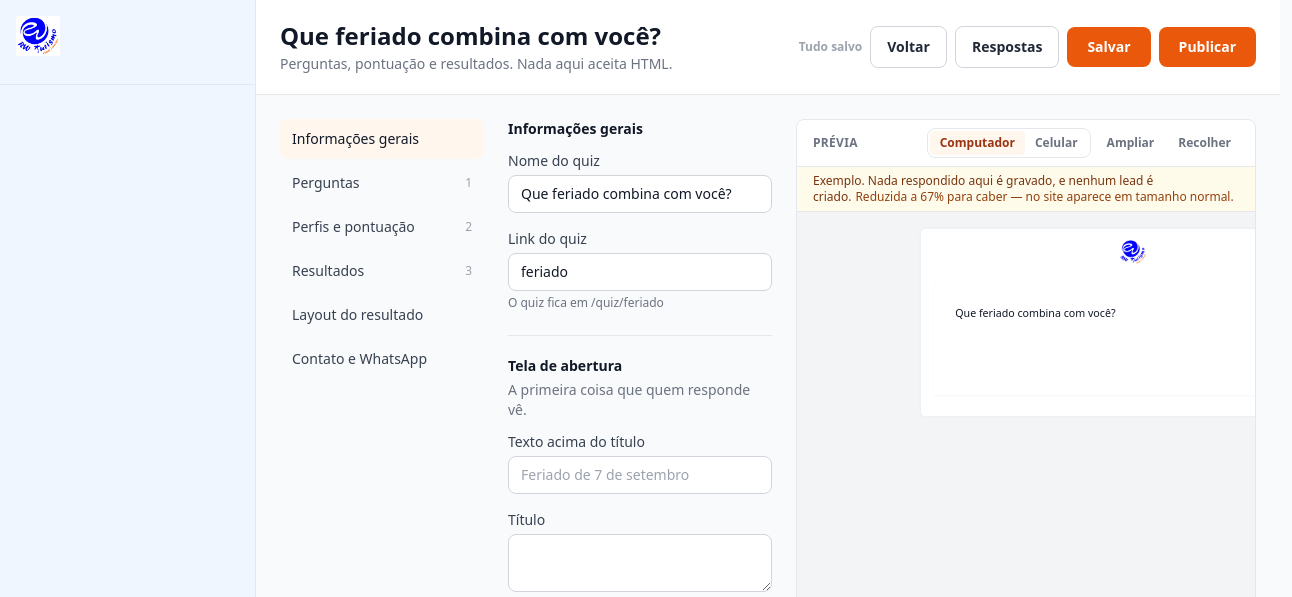
it: estados de salvamento › falha ao salvar mostra "Erro ao salvar" e a mensagem, e nunca "Salvo"
Expected: the button "Informações gerais" is shown, [280, 119, 484, 159]
Replace the text in the field labelled "Nome do quiz" with "outro" at (640, 194), box [508, 175, 772, 213]
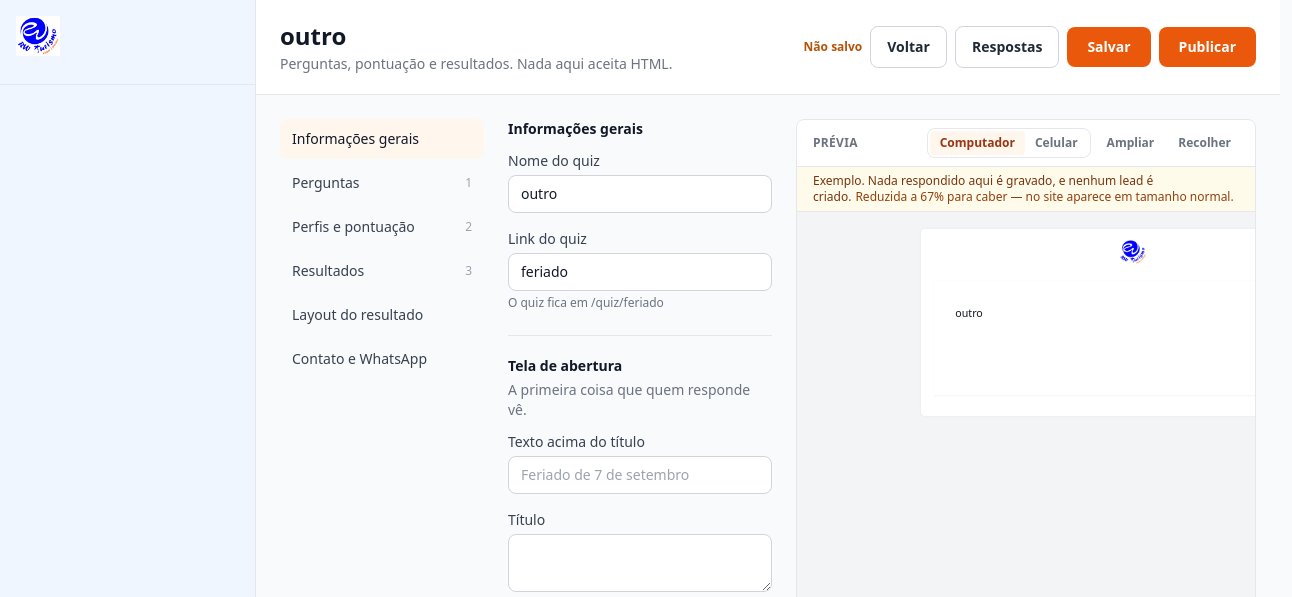
Click the button "Salvar".
click(1109, 47)  # box [1067, 27, 1151, 67]
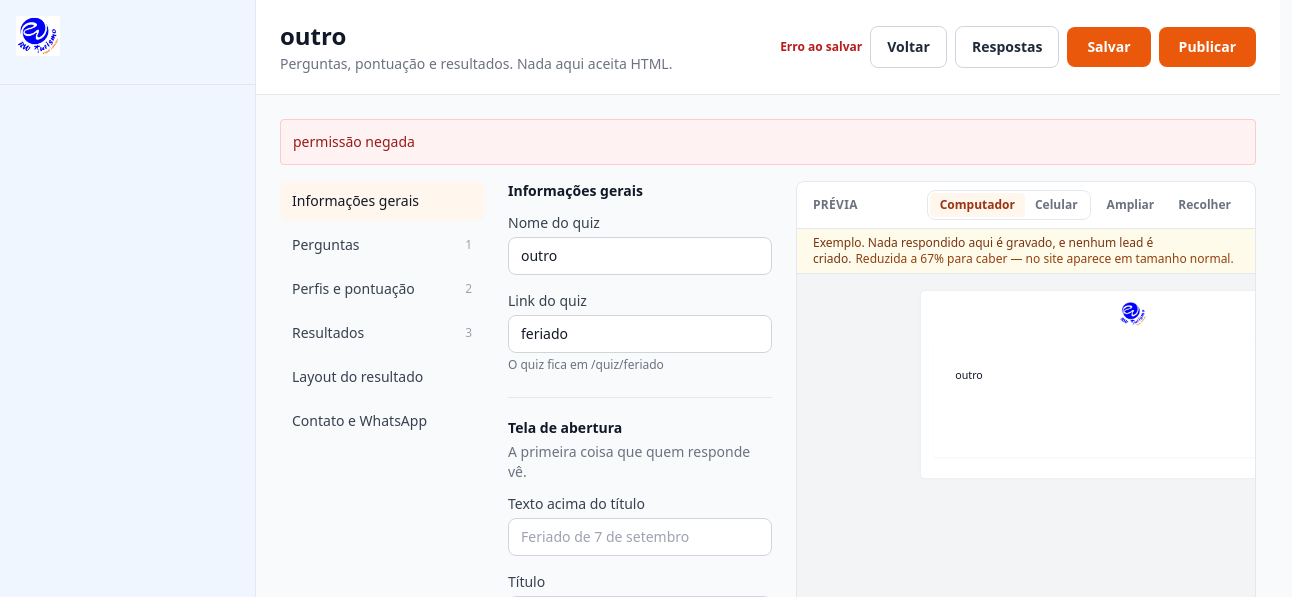
Now the text "Erro ao salvar" is shown, box [780, 39, 862, 55]
Now the message reads "permissão negada", box [293, 132, 415, 151]
Now the text "salvo" is gone
